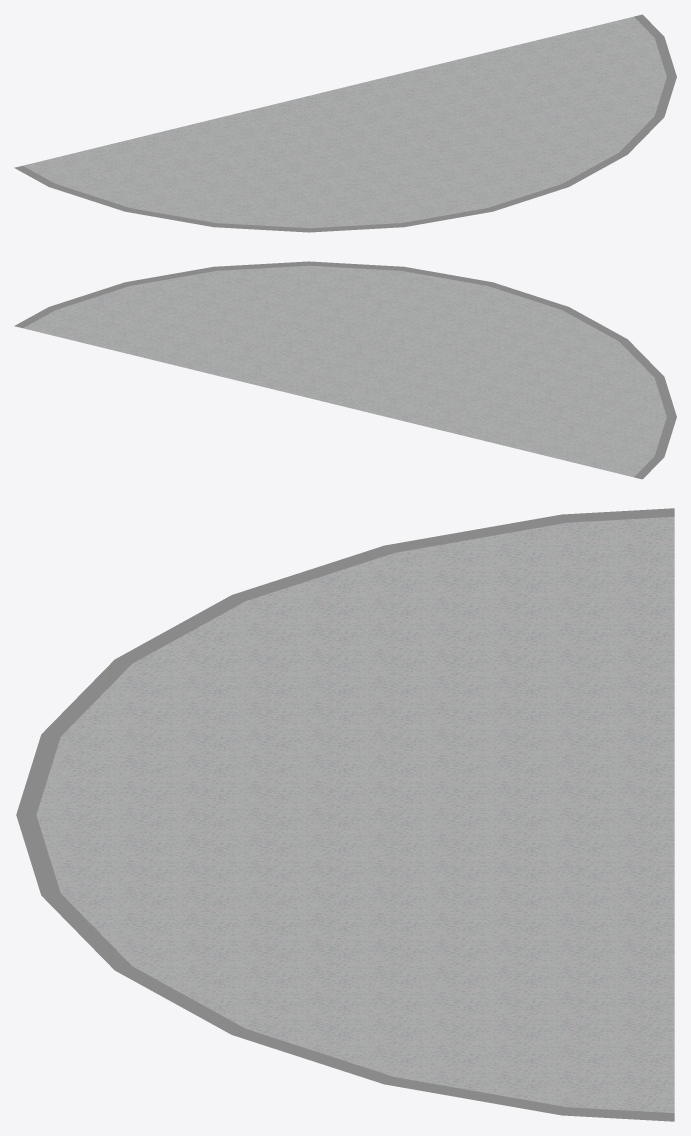
The model's file is Mafia_Platform.FBX.
3 views of the same model, one above another, from view 1: azimuth 30°, elevation 25°; view 2: azimuth 150°, elevation 25°; view 3: azimuth 270°, elevation 25° (orthographic). The views are drawn at different scales.
Parts seen in each view (by area): view 1: mafia_platform_simple; view 2: mafia_platform_simple; view 3: mafia_platform_simple.
Part boxes in pixels (bbox=[...]): mafia_platform_simple: bbox=[14, 14, 676, 232]; mafia_platform_simple: bbox=[14, 261, 676, 479]; mafia_platform_simple: bbox=[16, 508, 674, 1121].
Size of the model in its own units: 4151 by 1.14e-13 by 1883.
